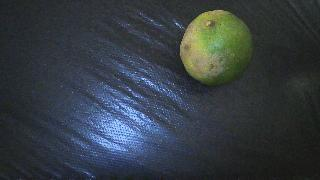DESECHO: (180, 10, 253, 85)
